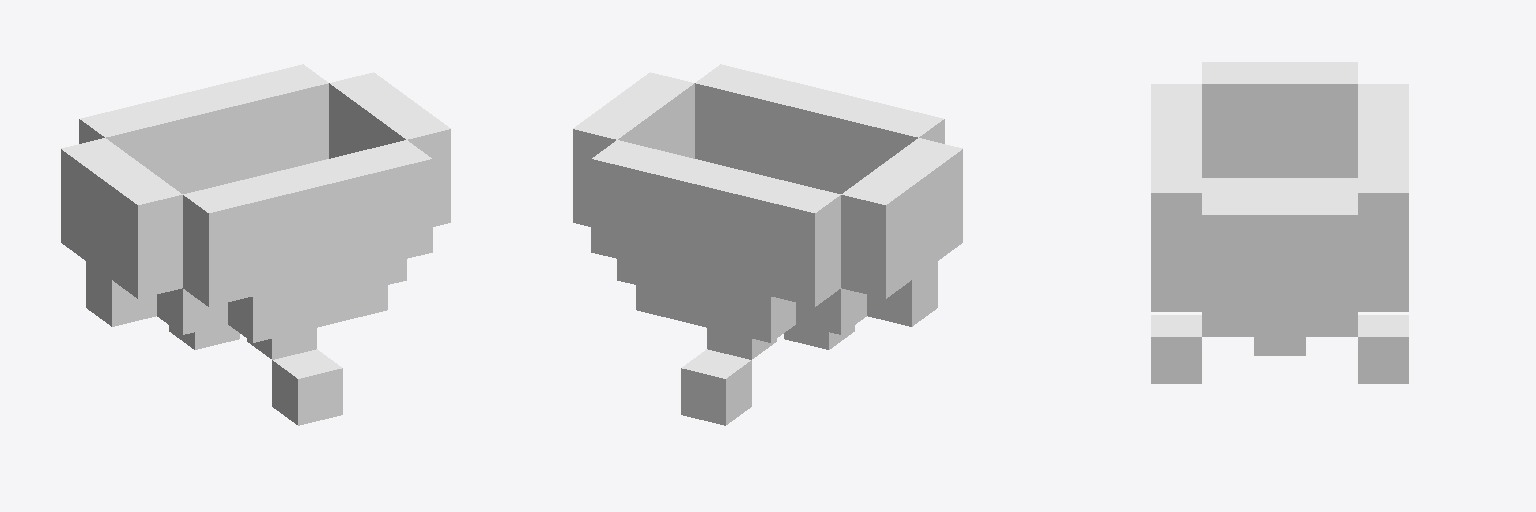
Rendered from Bike_Basket_Weave_Back.obj.
The picture shows the model from 3 angles: view 1: azimuth 30°, elevation 25°; view 2: azimuth 150°, elevation 25°; view 3: azimuth 270°, elevation 25°; orthographic projection.
Parts seen in each view (by area): view 1: object 1; view 2: object 1; view 3: object 1.
Part boxes in pixels (x1,y1,x2,y2): object 1: (61, 64, 450, 425); object 1: (573, 64, 962, 425); object 1: (1151, 62, 1408, 383).
Size of the model in its own units: 0.7 by 0.5 by 0.5.